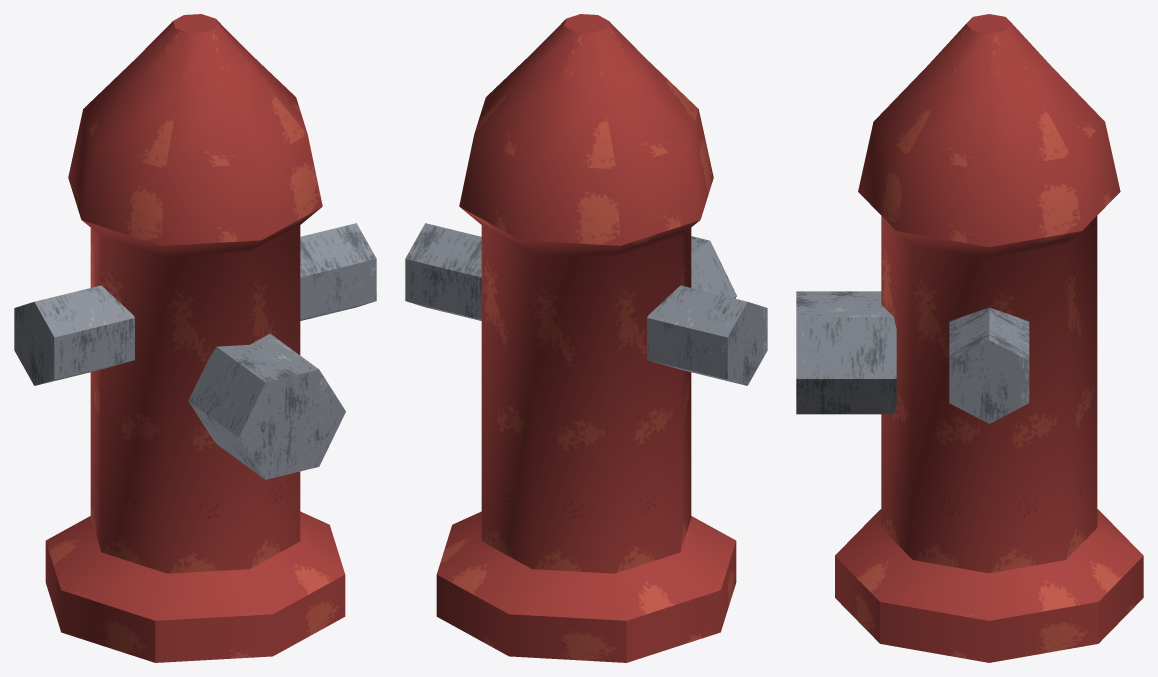
Rendered from fire_hydrant.glb.
3 views of the same model, side by side, from view 1: azimuth 30°, elevation 25°; view 2: azimuth 150°, elevation 25°; view 3: azimuth 270°, elevation 25° (orthographic).
Parts seen in each view (by area): view 1: Prop; view 2: Prop; view 3: Prop.
Boxes of the visible parts, bbox=[...] form: Prop: bbox=[14, 14, 376, 662]; Prop: bbox=[405, 14, 767, 662]; Prop: bbox=[796, 14, 1143, 662].
Size of the model in its own units: 0.48 by 0.82 by 0.45.
2 materials, 2 textured.
